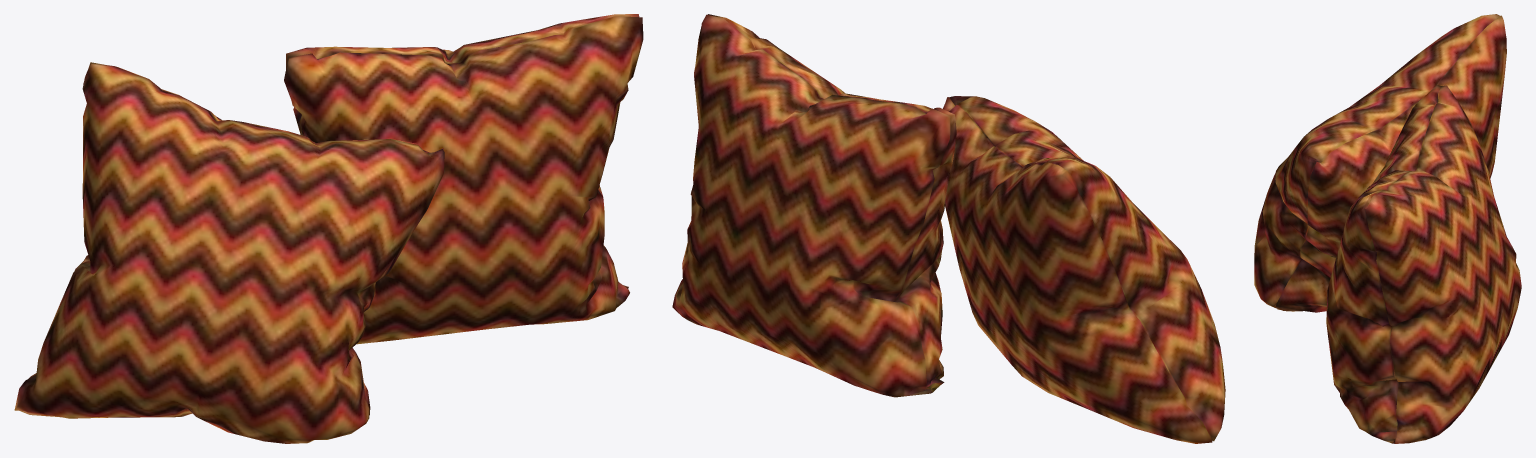
Rendered from throw_pillows_01.l.0b23d5fb.glb.
3 renders of one model, left to right at view 1: azimuth 30°, elevation 25°; view 2: azimuth 150°, elevation 25°; view 3: azimuth 270°, elevation 25°, orthographic. The views are drawn at different scales.
Visible parts, largest first — view 1: throw_pillows_01_pillow01, throw_pillows_01_pillow02; view 2: throw_pillows_01_pillow02, throw_pillows_01_pillow01; view 3: throw_pillows_01_pillow02, throw_pillows_01_pillow01.
Part boxes in pixels (<box>): throw_pillows_01_pillow01: <box>14,62,444,443</box>; throw_pillows_01_pillow02: <box>284,14,643,344</box>; throw_pillows_01_pillow02: <box>672,14,956,397</box>; throw_pillows_01_pillow01: <box>943,96,1225,443</box>; throw_pillows_01_pillow02: <box>1326,85,1521,443</box>; throw_pillows_01_pillow01: <box>1254,14,1506,312</box>.
Bounding box in the file's own units: 0.9401 × 0.45 × 0.4503.
Materials: 1 (1 with a texture image).
